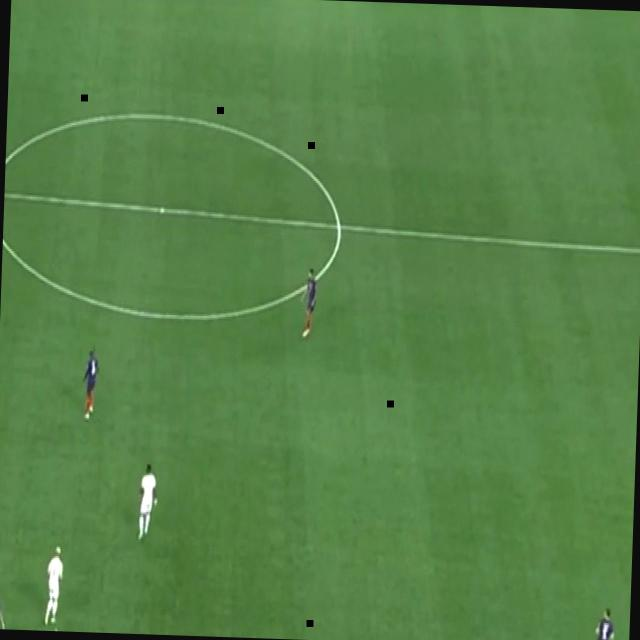player-white: (134, 461, 160, 545), (42, 542, 66, 630), (80, 344, 102, 424), (298, 265, 319, 341), (582, 603, 617, 640), (0, 585, 8, 629), (47, 623, 68, 631), (392, 637, 420, 640)
